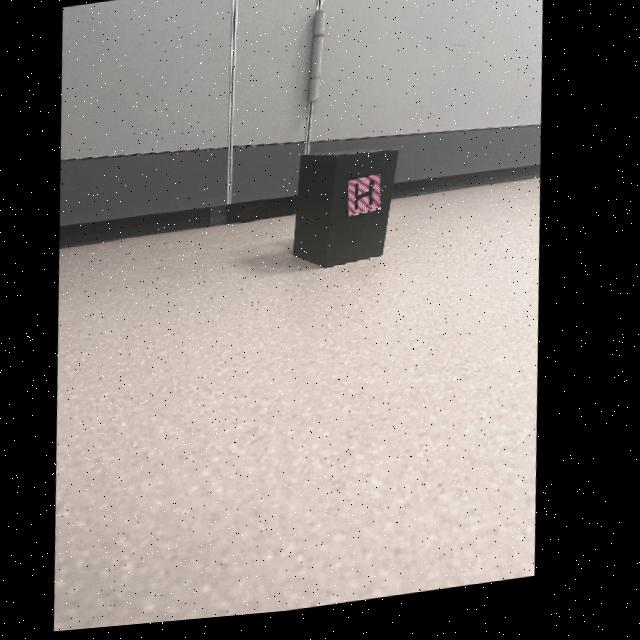H: (359, 187, 376, 216)
